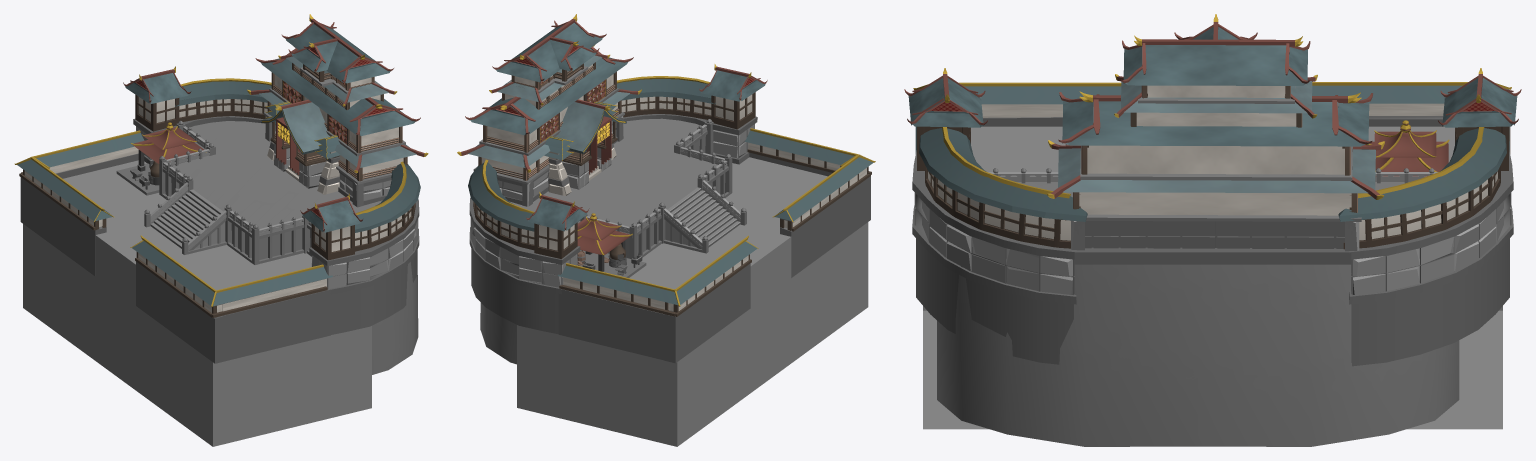
Rendered from main_4.fbx.
The picture shows the model from 3 angles, left to right: view 1: azimuth 30°, elevation 25°; view 2: azimuth 150°, elevation 25°; view 3: azimuth 270°, elevation 25°; orthographic projection. The views are drawn at different scales.
Parts seen in each view (by area): view 1: lvl_1, lvl_5, floor_high, lvl_2, floor_low, lvl_3_A, lvl_3_B, lvl_4_B, lvl_4_A, royal; view 2: lvl_1, lvl_5, floor_high, lvl_2, floor_low, lvl_3_B, lvl_3_A, lvl_4_A, lvl_4_B, royal; view 3: lvl_1, lvl_5, lvl_2, lvl_3_B, lvl_3_A, floor_low, lvl_4_B, lvl_4_A, royal.
Boxes of the visible parts, box(x1,y1,x2,y2) form: lvl_1: box(20, 116, 419, 446); lvl_5: box(255, 14, 420, 153); floor_high: box(172, 121, 382, 230); lvl_2: box(247, 88, 428, 207); floor_low: box(63, 160, 311, 290); lvl_3_A: box(123, 66, 271, 131); lvl_3_B: box(300, 161, 420, 260); lvl_4_B: box(130, 235, 332, 317); lvl_4_A: box(14, 130, 144, 230); royal: box(116, 122, 206, 195); lvl_1: box(469, 114, 870, 446); lvl_5: box(465, 14, 633, 152); floor_high: box(509, 118, 717, 228); lvl_2: box(457, 88, 641, 206); floor_low: box(629, 157, 827, 289); lvl_3_B: box(617, 64, 767, 129); lvl_3_A: box(468, 159, 589, 259); lvl_4_A: box(557, 235, 758, 316); lvl_4_B: box(745, 128, 875, 231); royal: box(577, 213, 646, 277); lvl_1: box(912, 116, 1513, 446); lvl_5: box(1058, 14, 1373, 175); lvl_2: box(1047, 140, 1384, 251); lvl_3_B: box(904, 68, 1087, 248); lvl_3_A: box(1338, 68, 1521, 249); floor_low: box(971, 126, 1454, 176); lvl_4_B: box(913, 82, 1121, 153); lvl_4_A: box(1312, 82, 1511, 153); royal: box(1363, 120, 1449, 176).
Size of the model in its own units: 27.83 by 29.01 by 36.91.
